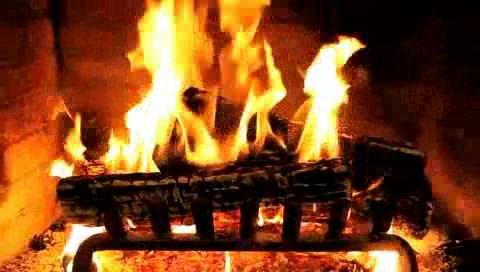fire: (108, 7, 349, 170)
